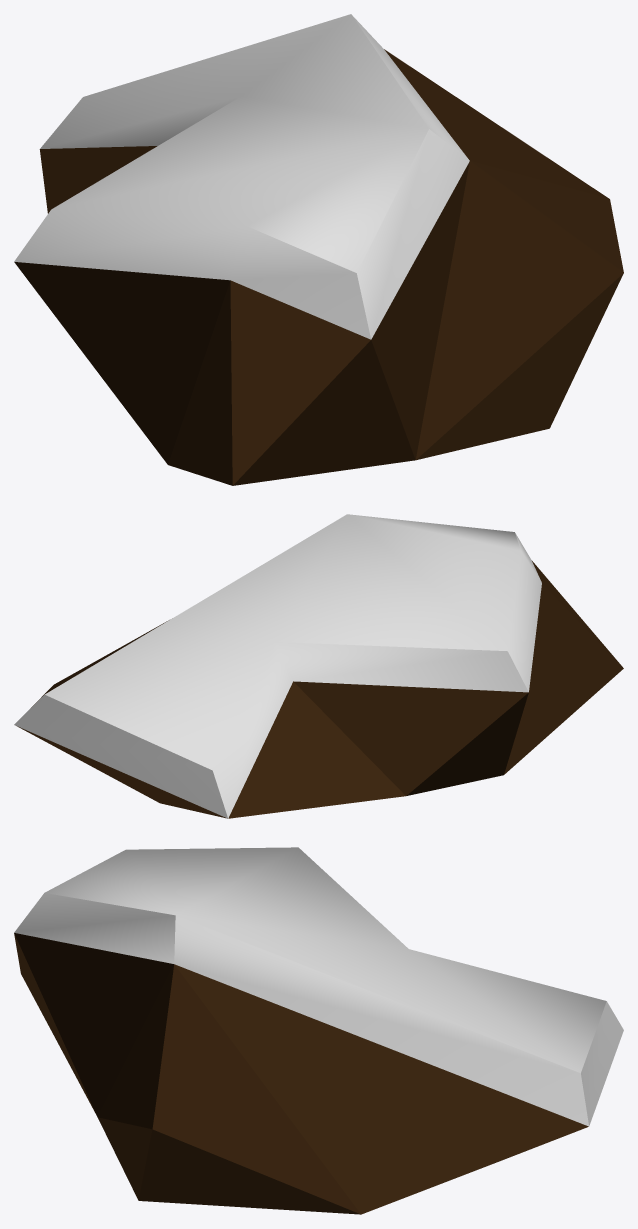
Rendered from rock.fbx.
The picture shows the model from 3 angles, top to bottom: view 1: azimuth 30°, elevation 25°; view 2: azimuth 150°, elevation 25°; view 3: azimuth 270°, elevation 25°; orthographic projection. The views are drawn at different scales.
Parts seen in each view (by area): view 1: merge6; view 2: merge6; view 3: merge6.
Part boxes in pixels (left/top/right/bottom): merge6: left=14, top=14, right=623, bottom=485; merge6: left=14, top=514, right=623, bottom=818; merge6: left=14, top=847, right=623, bottom=1214.
Bounding box in the file's own units: 1.66 × 0.7725 × 1.73.
